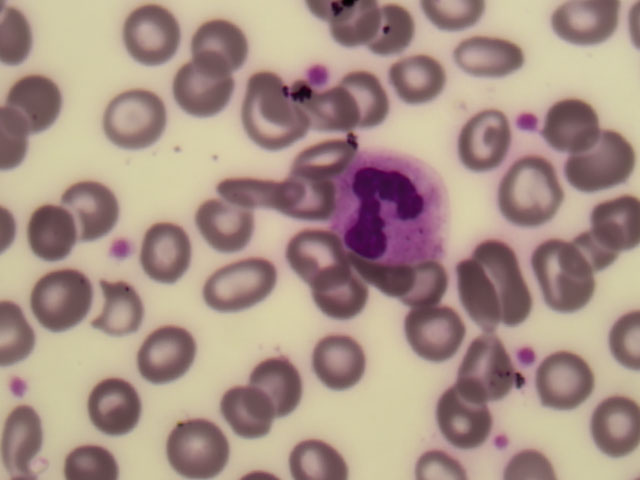Platelets: (106, 236, 138, 263), (514, 109, 539, 138), (304, 63, 333, 85), (513, 344, 537, 370), (6, 375, 29, 398), (494, 433, 511, 451)
RBC: (5, 70, 66, 134), (99, 92, 160, 156), (175, 60, 236, 124), (188, 16, 249, 80), (125, 3, 186, 67), (231, 75, 292, 139), (301, 84, 362, 148), (334, 69, 395, 133), (387, 52, 448, 116), (458, 34, 519, 98), (368, 4, 429, 63), (325, 2, 386, 61), (539, 94, 600, 153), (569, 129, 630, 188), (503, 163, 564, 222), (456, 114, 517, 173), (470, 242, 531, 301), (524, 247, 585, 306), (562, 219, 623, 278), (579, 190, 640, 249), (537, 350, 598, 409), (579, 386, 640, 445), (441, 387, 502, 446), (450, 346, 511, 405), (440, 272, 501, 331), (407, 303, 468, 362), (388, 259, 449, 318), (308, 269, 369, 328), (283, 225, 344, 284), (274, 172, 335, 231), (226, 165, 287, 224), (291, 124, 352, 183), (199, 200, 260, 259), (213, 268, 274, 327), (307, 331, 368, 390), (250, 359, 311, 418), (221, 378, 282, 437), (170, 420, 231, 479), (133, 322, 194, 381), (91, 282, 152, 341), (141, 228, 202, 287), (65, 183, 126, 242), (31, 206, 92, 265), (25, 278, 86, 337), (86, 376, 147, 435), (3, 421, 64, 480), (281, 421, 342, 480), (557, 1, 618, 59)
WBC: (340, 147, 453, 261)
